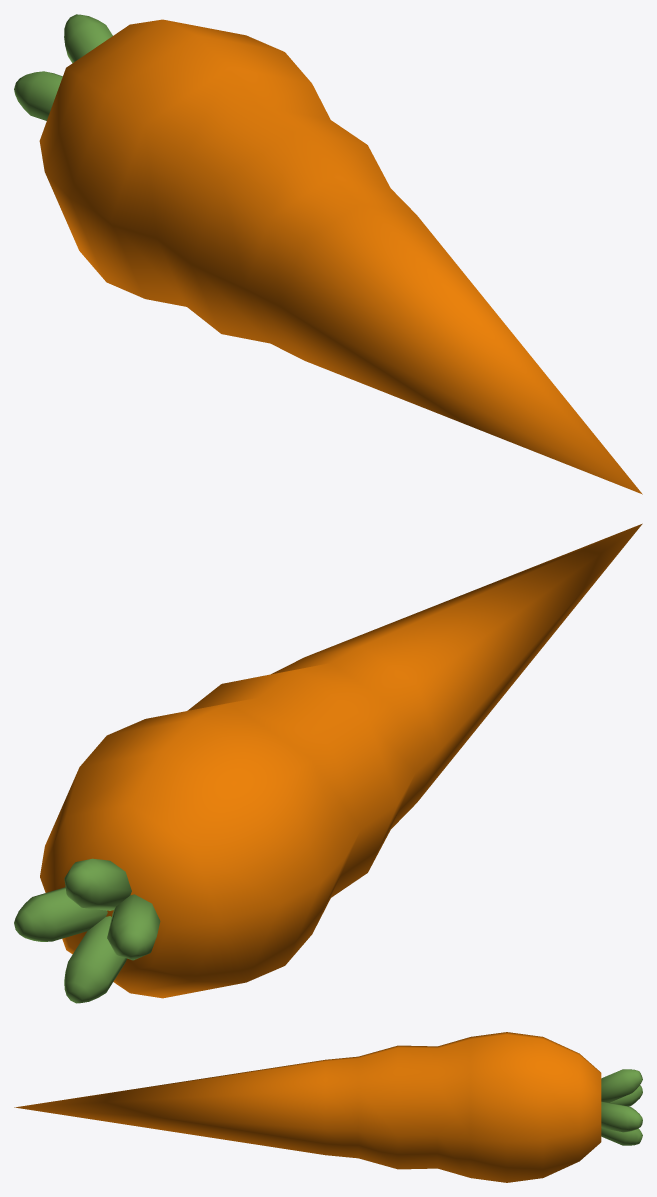
The model's file is Carrot.fbx.
The picture shows the model from 3 angles, top to bottom: view 1: azimuth 30°, elevation 25°; view 2: azimuth 150°, elevation 25°; view 3: azimuth 270°, elevation 25°; orthographic projection. The views are drawn at different scales.
Visible parts, largest first — view 1: Carrot; view 2: Carrot; view 3: Carrot.
Part boxes in pixels (bbox=[...]): Carrot: bbox=[14, 14, 642, 494]; Carrot: bbox=[14, 523, 642, 1003]; Carrot: bbox=[14, 1032, 642, 1182].
Bounding box in the file's own units: 0.4422 × 0.4422 × 1.73.
